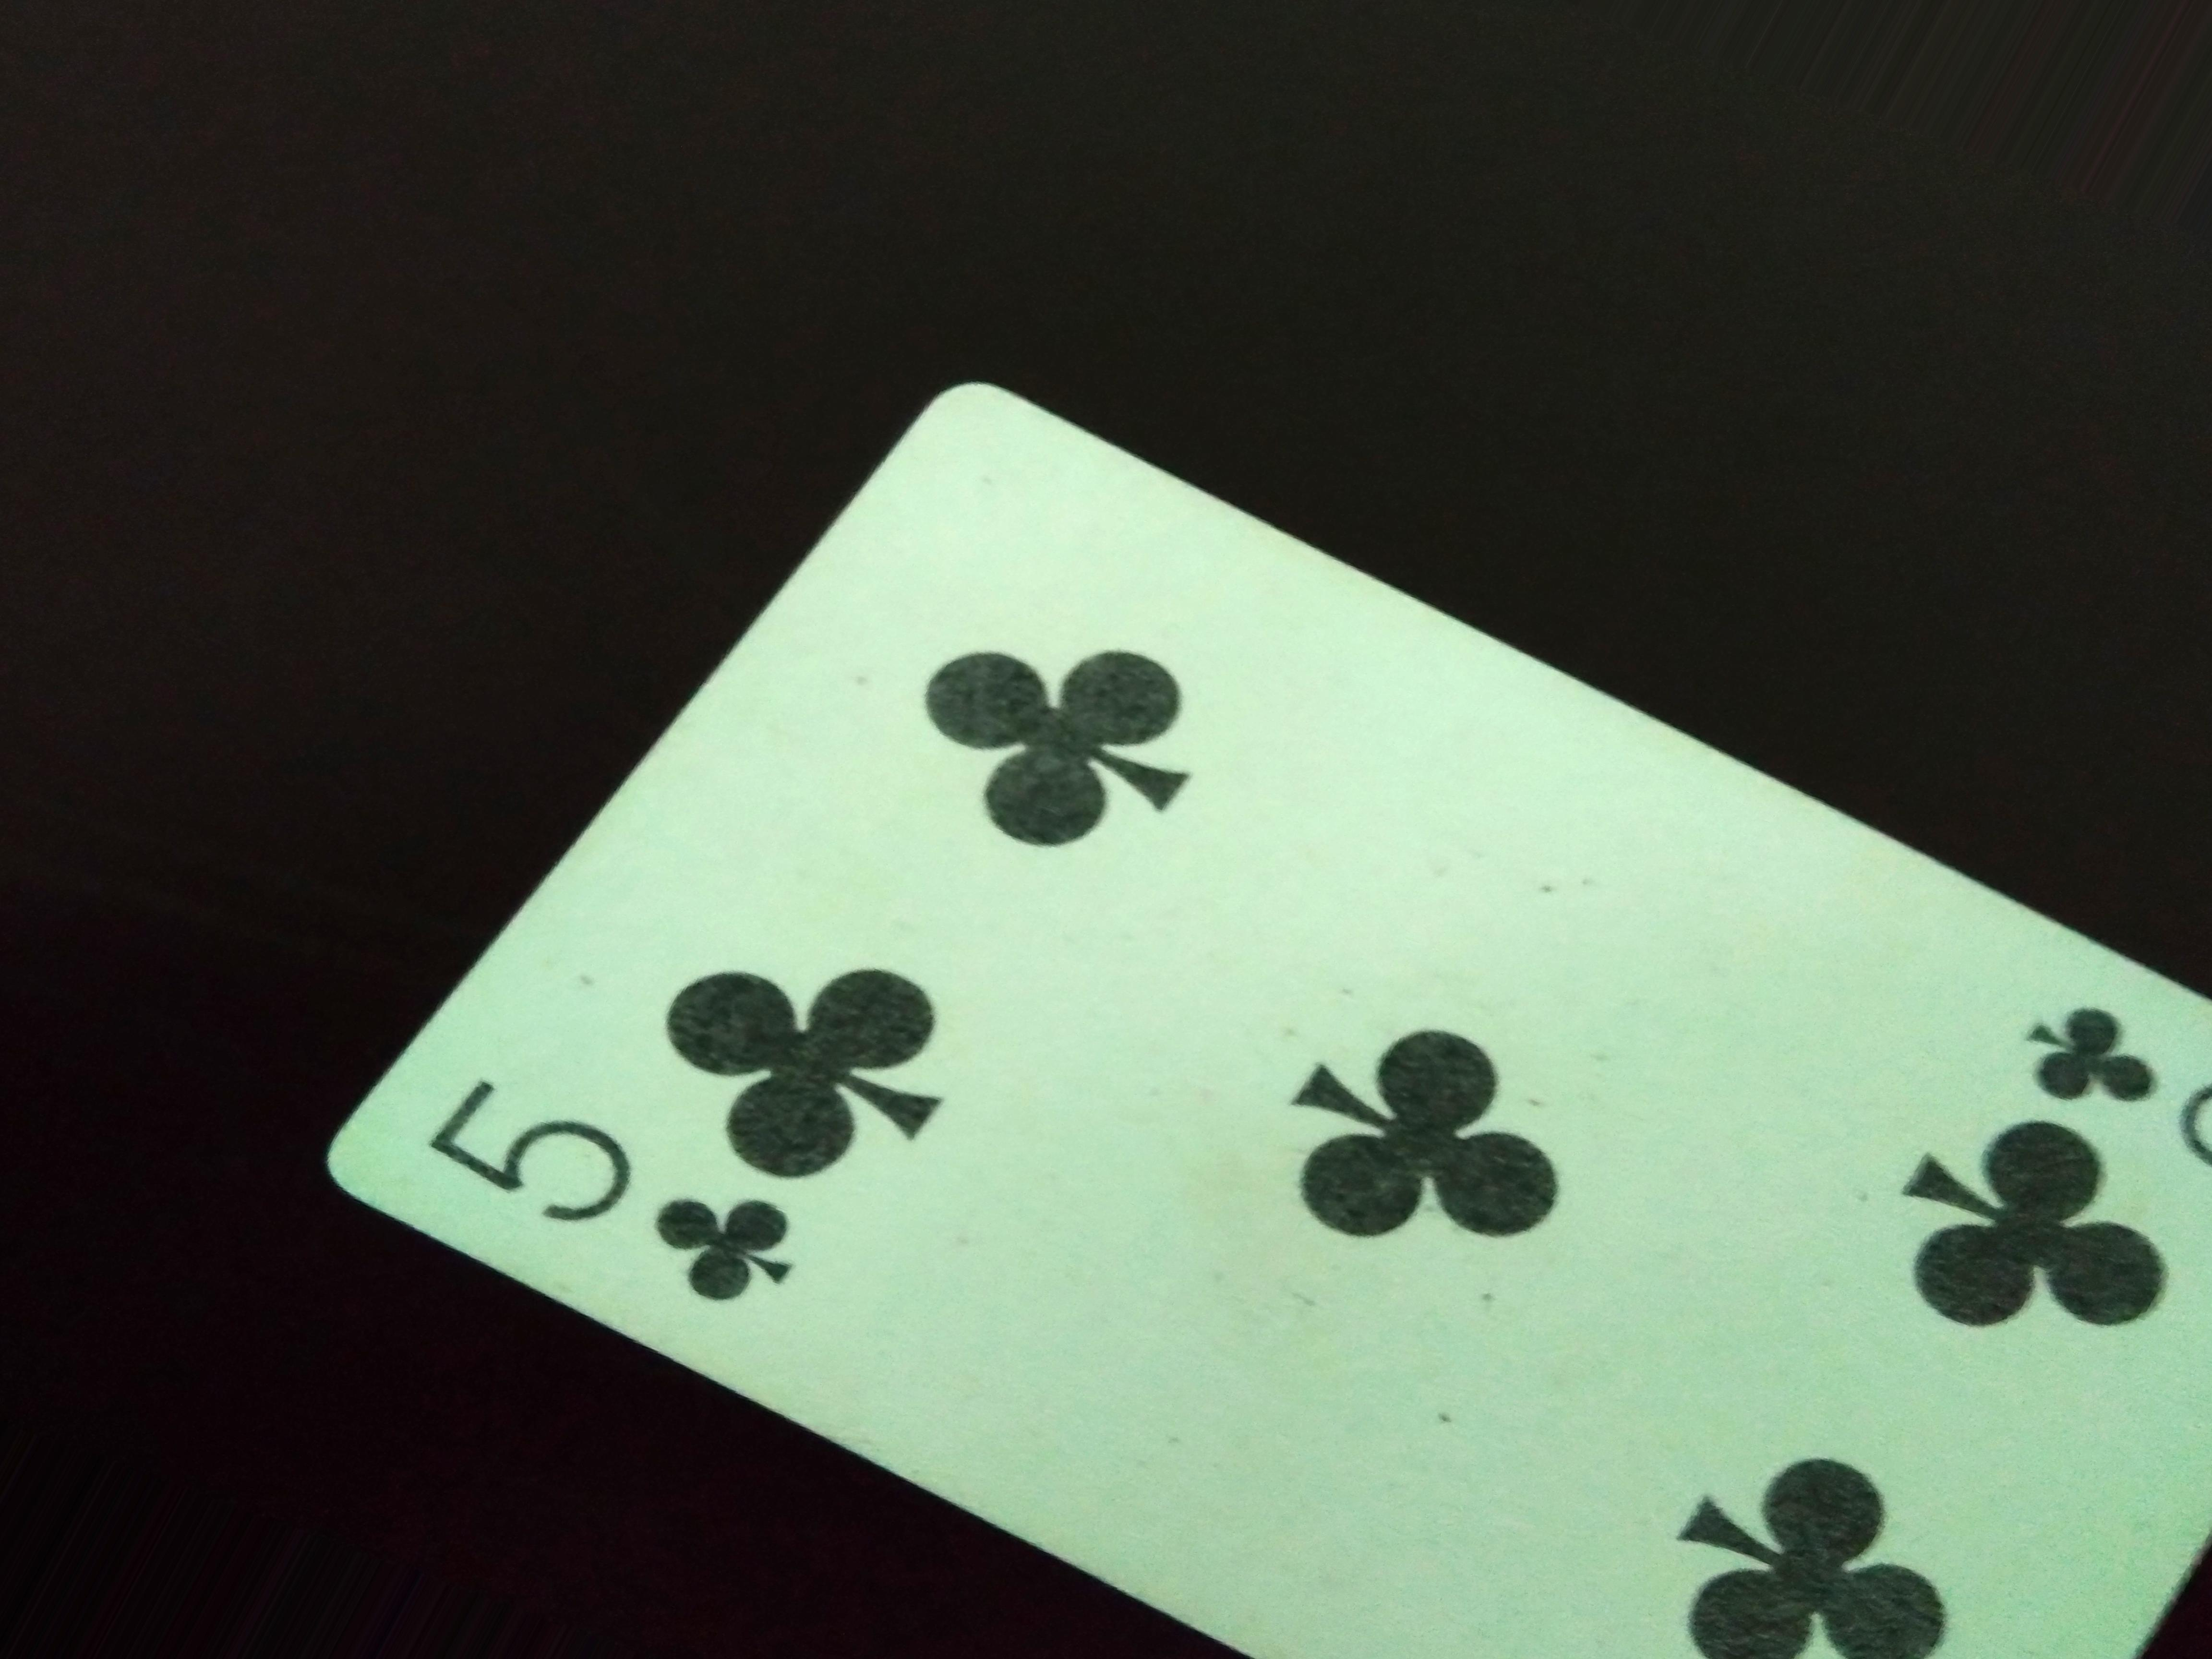5C: (423, 1070, 820, 1347)
